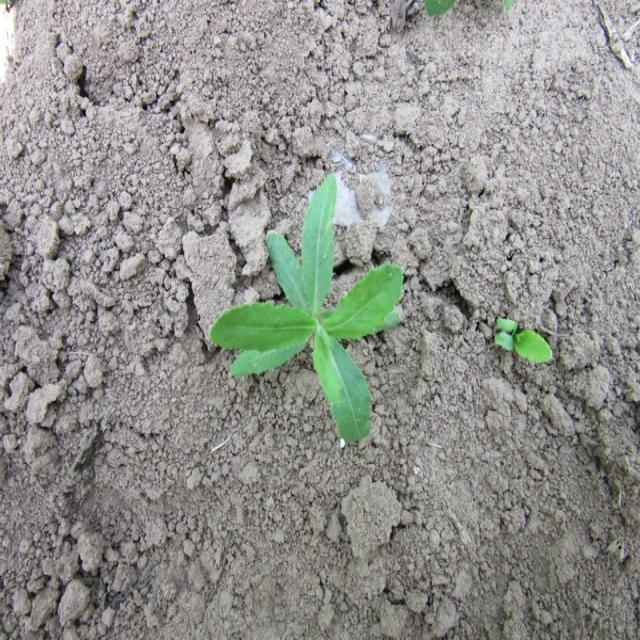field_thistle: (183, 184, 423, 440)
